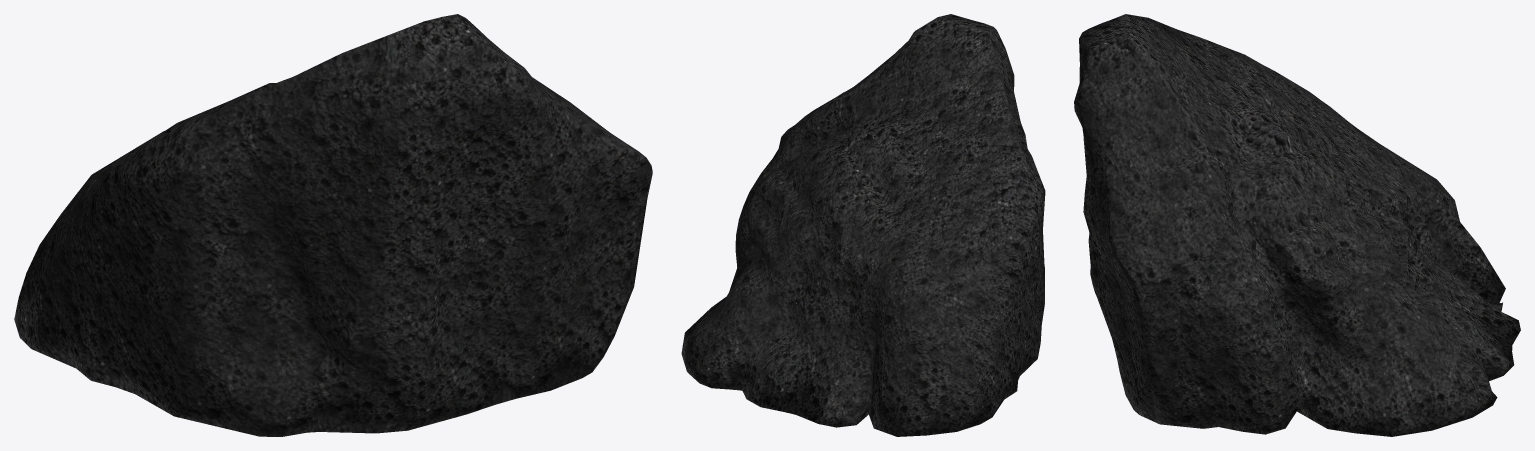
File: ArtistVolcanicRock05.fbx
3 renders of one model, left to right at view 1: azimuth 30°, elevation 25°; view 2: azimuth 150°, elevation 25°; view 3: azimuth 270°, elevation 25°, orthographic. The views are drawn at different scales.
Visible parts, largest first — view 1: ArtistVolcanicRock05_LOD0; view 2: ArtistVolcanicRock05_LOD0; view 3: ArtistVolcanicRock05_LOD0.
Boxes of the visible parts, x1,y1,x2,y2 form: ArtistVolcanicRock05_LOD0: (14, 14, 652, 436); ArtistVolcanicRock05_LOD0: (681, 14, 1045, 436); ArtistVolcanicRock05_LOD0: (1074, 14, 1520, 436).
Size of what is drawn, in the model's own units: 2.58 by 2.12 by 2.68.
1 material, 1 textured.
